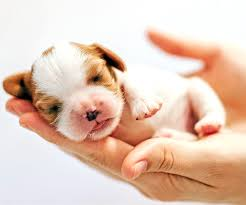dog: (11, 31, 236, 170)
